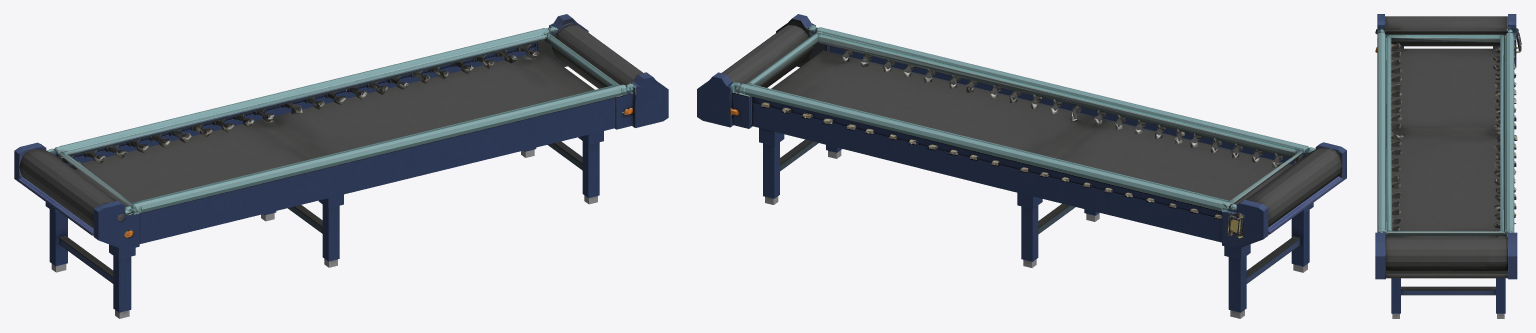
Rendered from conveyor-deck.gltf.
3 renders of one model, left to right at view 1: azimuth 30°, elevation 25°; view 2: azimuth 150°, elevation 25°; view 3: azimuth 270°, elevation 25°, orthographic. The views are drawn at different scales.
Visible parts, largest first — view 1: tripo_node_e658b572-9446-4b4f-85fc-25dd22cd5d04; view 2: tripo_node_e658b572-9446-4b4f-85fc-25dd22cd5d04; view 3: tripo_node_e658b572-9446-4b4f-85fc-25dd22cd5d04.
Part boxes in pixels (x1,y1,x2,y2): tripo_node_e658b572-9446-4b4f-85fc-25dd22cd5d04: [14, 14, 668, 318]; tripo_node_e658b572-9446-4b4f-85fc-25dd22cd5d04: [697, 14, 1346, 318]; tripo_node_e658b572-9446-4b4f-85fc-25dd22cd5d04: [1375, 14, 1521, 318].
Size of the model in its own units: 0.998 by 0.2051 by 0.2676.
Materials: 1 (1 with a texture image).
